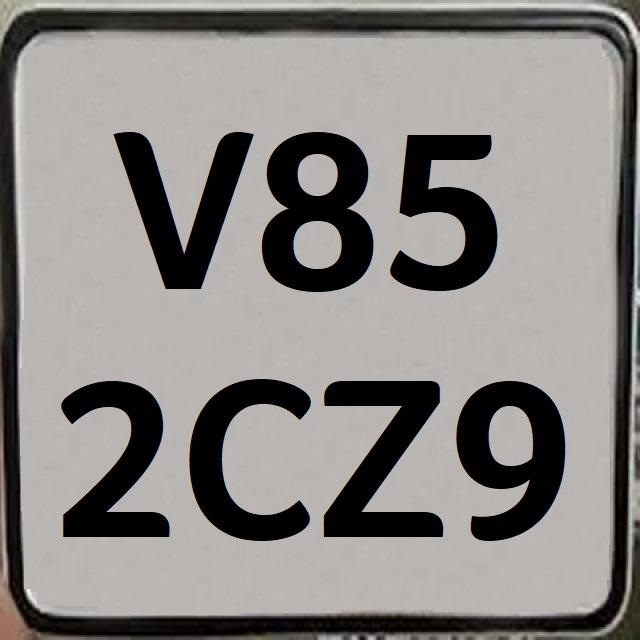2: (49, 366, 173, 562)
5: (389, 113, 510, 304)
8: (260, 112, 375, 304)
9: (452, 363, 574, 554)
C: (185, 361, 319, 546)
